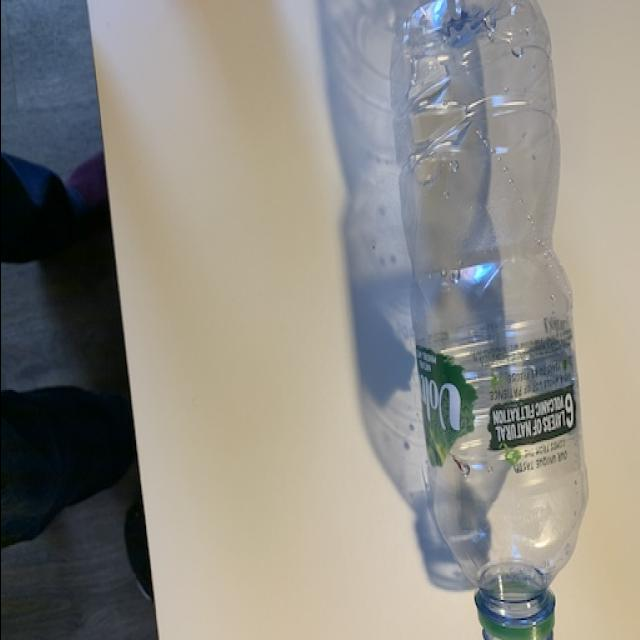PET: (394, 1, 586, 636)
